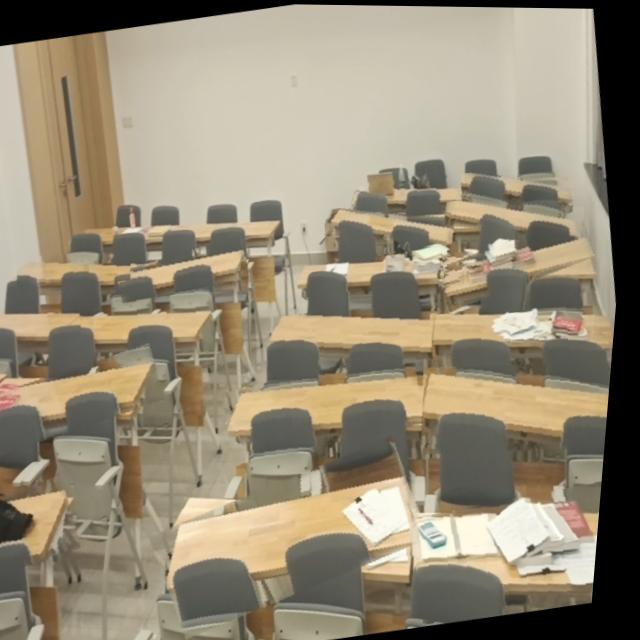Non-empty: (177, 476, 427, 589), (428, 509, 608, 587), (0, 357, 159, 423), (449, 235, 599, 291), (439, 312, 620, 347), (302, 248, 447, 284), (0, 489, 73, 560), (82, 221, 191, 241), (358, 181, 465, 201)
empty: (430, 366, 616, 443), (234, 373, 428, 428), (273, 316, 443, 356), (449, 195, 583, 235), (126, 250, 249, 291), (329, 207, 459, 243), (72, 309, 216, 338), (463, 172, 577, 204), (22, 257, 135, 281), (0, 310, 85, 341)
